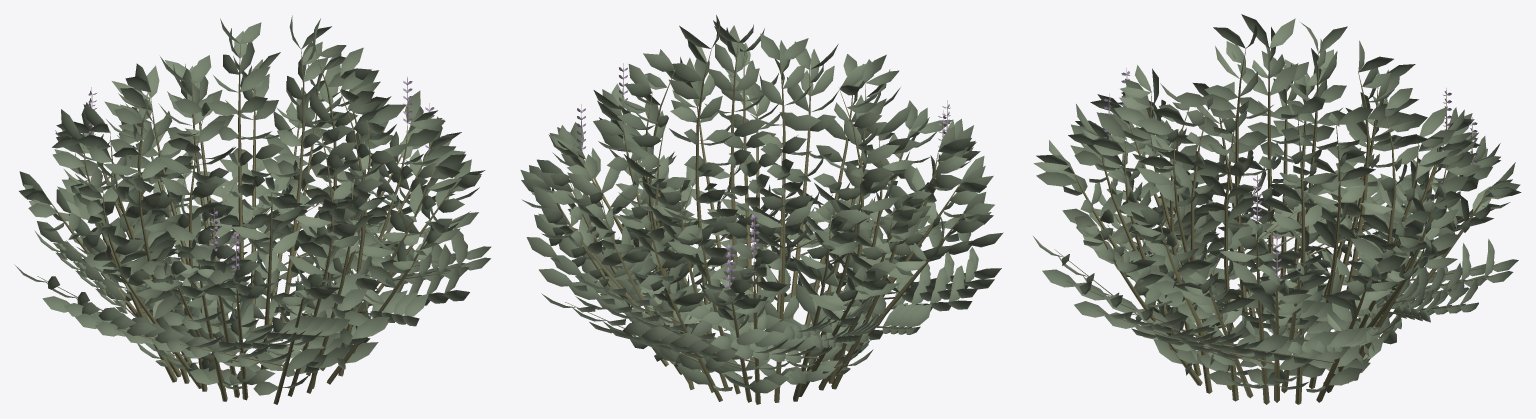
File: salvia-fruticosa-light.glb
The picture shows the model from 3 angles, left to right: view 1: azimuth 30°, elevation 25°; view 2: azimuth 150°, elevation 25°; view 3: azimuth 270°, elevation 25°; orthographic projection.
Parts seen in each view (by area): view 1: salvia-fruticosa dense natural leaf mound, salvia-fruticosa connected low branching, salvia-fruticosa restrained seasonal flowers; view 2: salvia-fruticosa dense natural leaf mound, salvia-fruticosa connected low branching, salvia-fruticosa restrained seasonal flowers; view 3: salvia-fruticosa dense natural leaf mound, salvia-fruticosa connected low branching, salvia-fruticosa restrained seasonal flowers.
Boxes of the visible parts, x1,y1,x2,y2 form: salvia-fruticosa dense natural leaf mound: (14, 15, 491, 395); salvia-fruticosa connected low branching: (37, 42, 469, 404); salvia-fruticosa restrained seasonal flowers: (87, 81, 434, 274); salvia-fruticosa dense natural leaf mound: (520, 15, 1003, 393); salvia-fruticosa connected low branching: (551, 41, 967, 404); salvia-fruticosa restrained seasonal flowers: (577, 67, 950, 287); salvia-fruticosa dense natural leaf mound: (1033, 14, 1521, 392); salvia-fruticosa connected low branching: (1054, 47, 1497, 404); salvia-fruticosa restrained seasonal flowers: (1103, 71, 1477, 276).
Bounding box in the file's own units: 0.9715 × 0.6827 × 0.9677.
